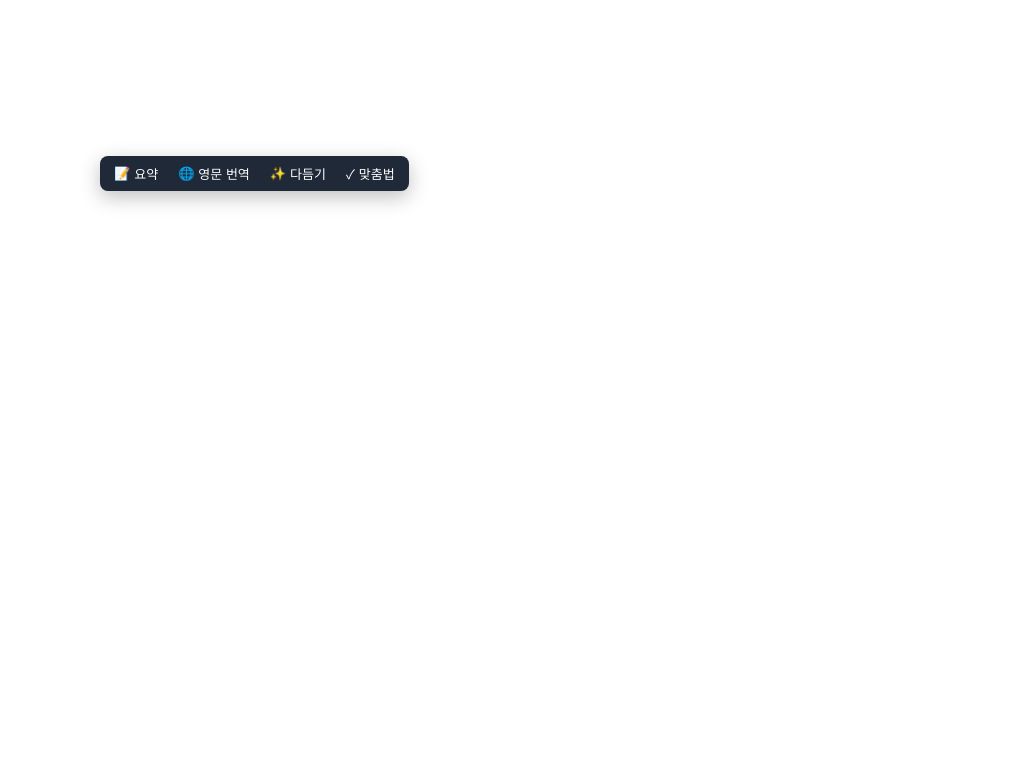
Test: InlineAIAssistant › shows error message when LLM throws
Click the button with test id "inline-ai-action-rewrite".
click(298, 174)  # box [262,160,334,187]
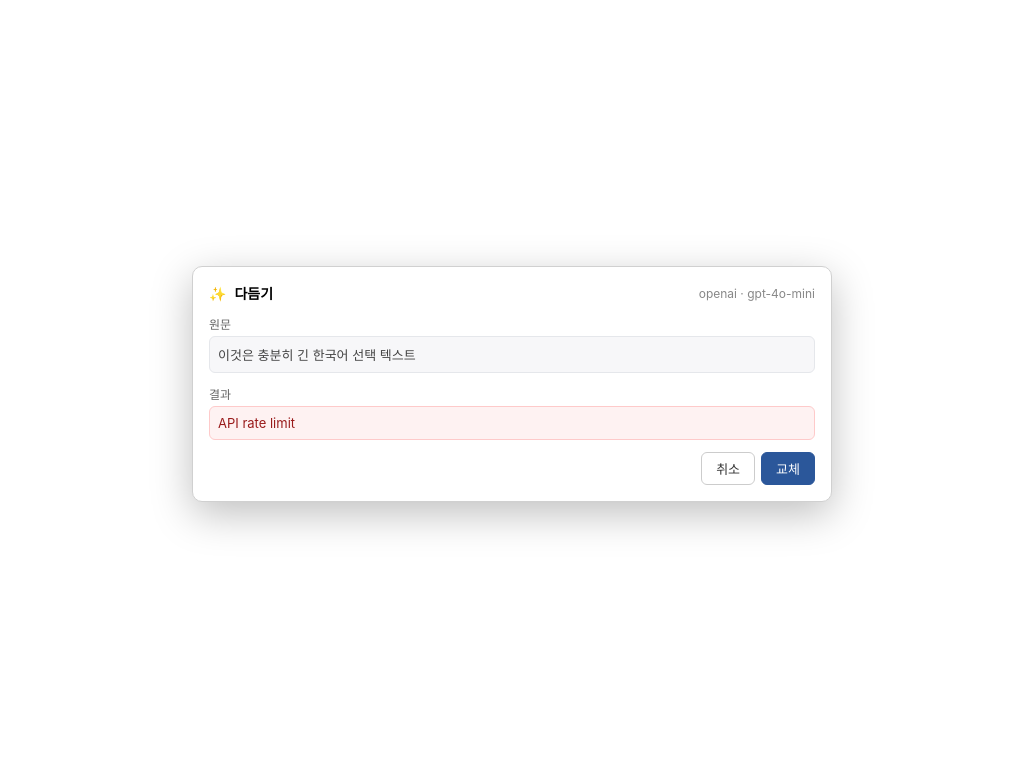
Expected: the message reads "API rate limit", [218,415,295,431]
Expected: the button with test id "inline-ai-accept" is disabled, [761,452,815,485]
